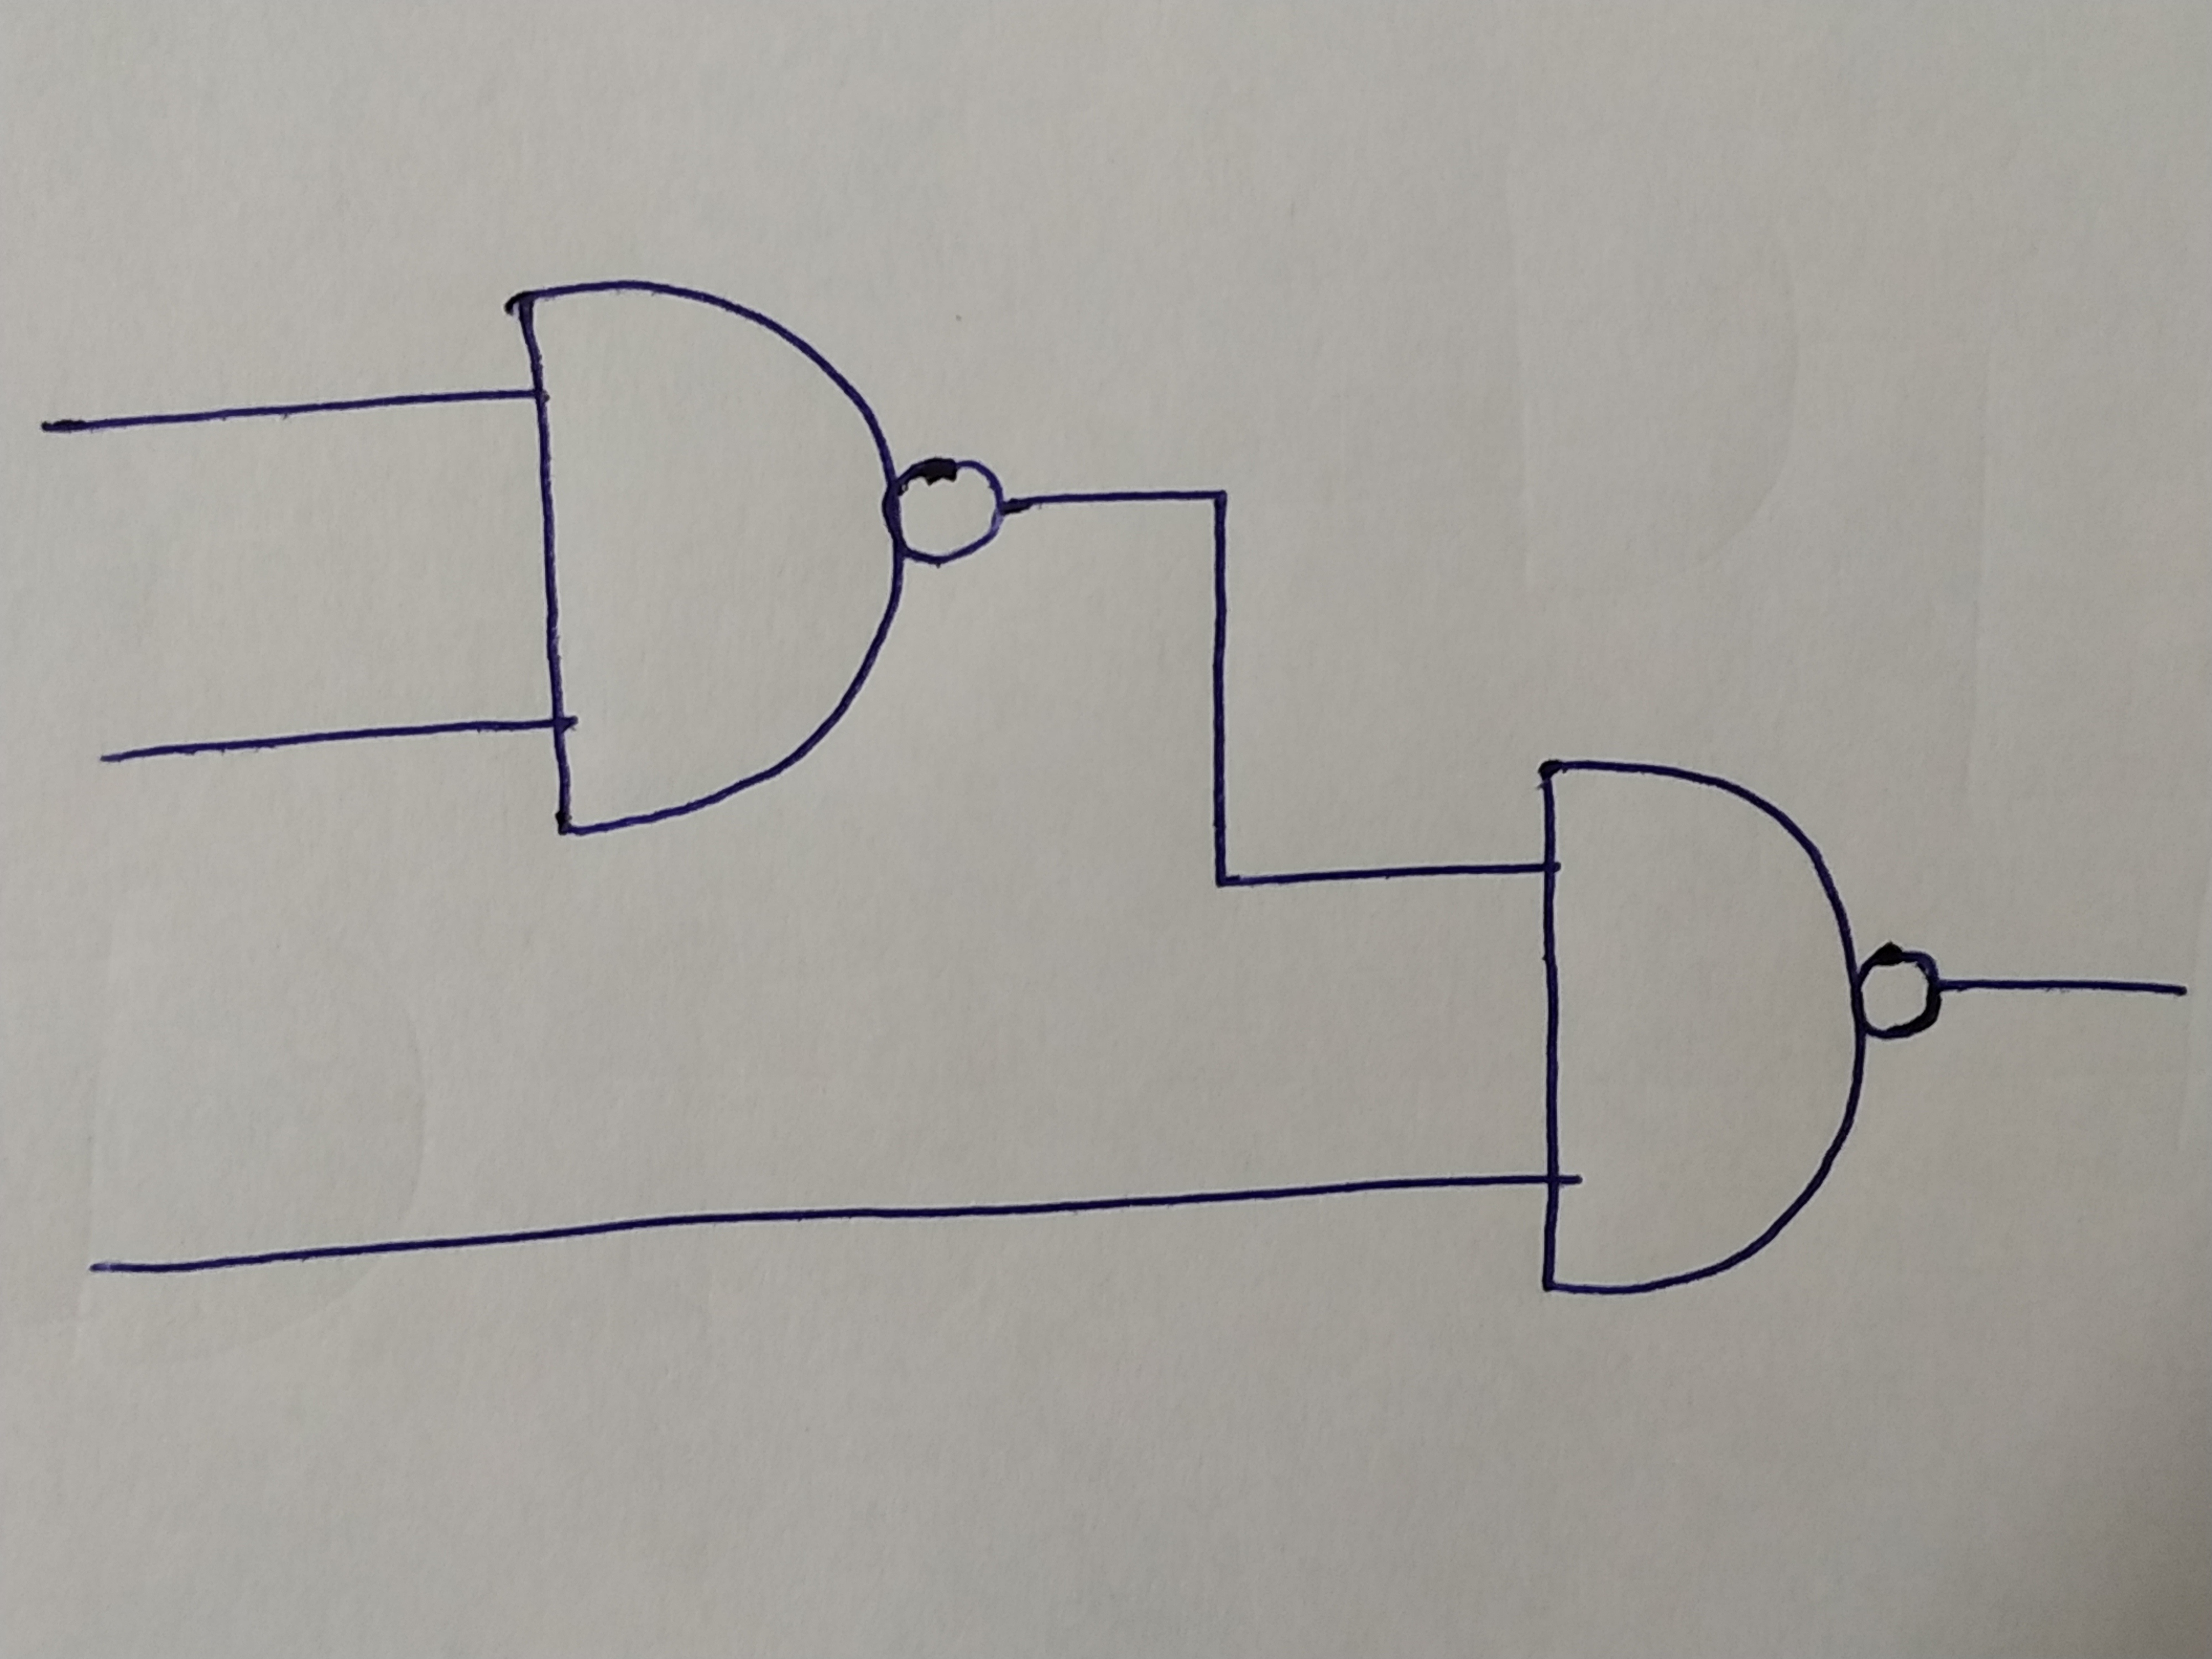and: (516, 282, 897, 836), (1527, 758, 1862, 1298)
not: (892, 455, 1001, 559), (1858, 950, 1939, 1039)
